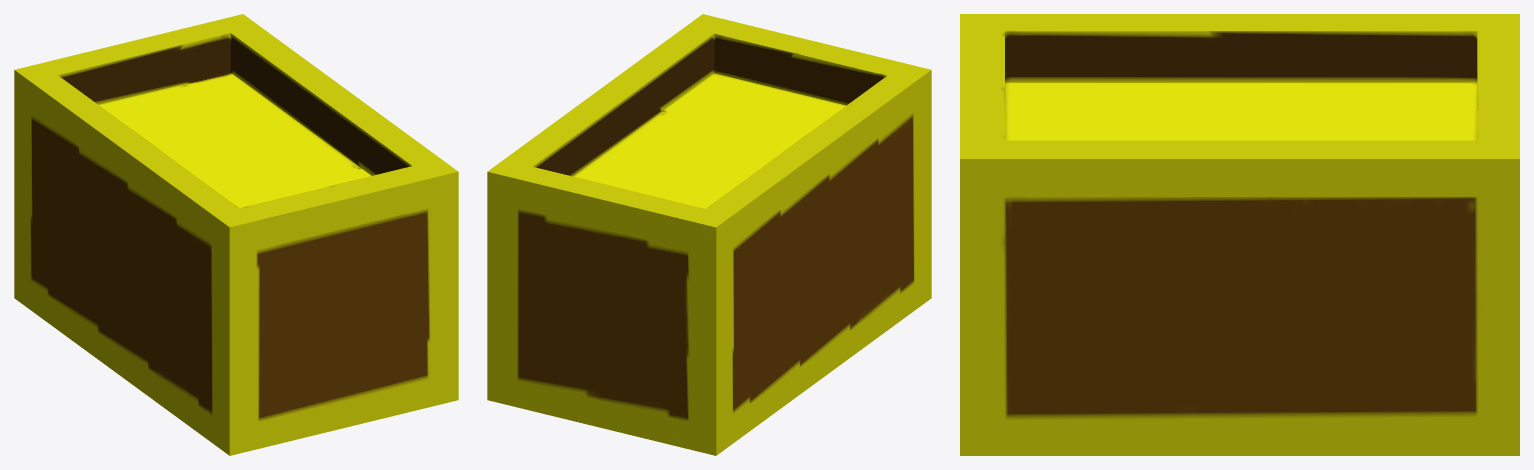
Rendered from takarabox.fbx.
The picture shows the model from 3 angles, left to right: view 1: azimuth 30°, elevation 25°; view 2: azimuth 150°, elevation 25°; view 3: azimuth 270°, elevation 25°; orthographic projection. The views are drawn at different scales.
Parts seen in each view (by area): view 1: polySurface19; view 2: polySurface19; view 3: polySurface19.
Part boxes in pixels (x1=…): polySurface19: x1=14, y1=14, x2=458, y2=455; polySurface19: x1=487, y1=14, x2=931, y2=455; polySurface19: x1=960, y1=14, x2=1519, y2=455.
Size of the model in its own units: 7.75 by 7.4 by 12.64.
Materials: 1 (1 with a texture image).
